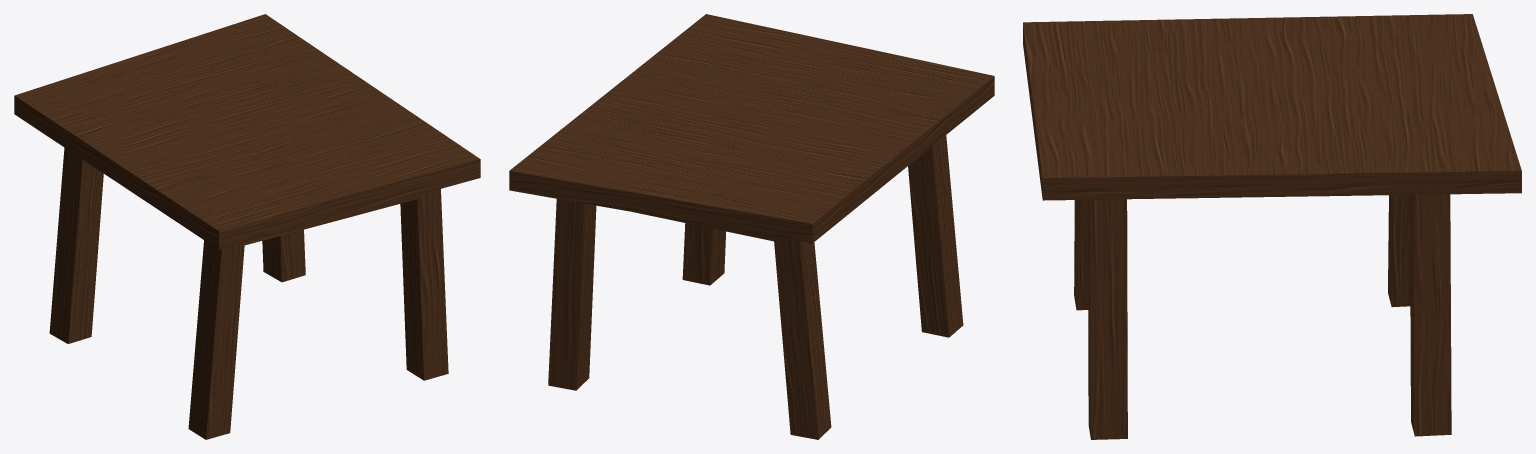
File: LargerTable.fbx
3 renders of one model, left to right at view 1: azimuth 30°, elevation 25°; view 2: azimuth 150°, elevation 25°; view 3: azimuth 270°, elevation 25°, orthographic. The views are drawn at different scales.
Visible parts, largest first — view 1: Midnight_Antics_House_Build_V1.007; view 2: Midnight_Antics_House_Build_V1.007; view 3: Midnight_Antics_House_Build_V1.007.
Boxes of the visible parts, x1,y1,x2,y2 form: Midnight_Antics_House_Build_V1.007: [14, 14, 480, 439]; Midnight_Antics_House_Build_V1.007: [509, 14, 994, 439]; Midnight_Antics_House_Build_V1.007: [1023, 14, 1521, 439].
Bounding box in the file's own units: 15742 × 11995 × 20208.
